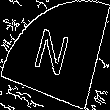N_S: (33, 24, 77, 86)
